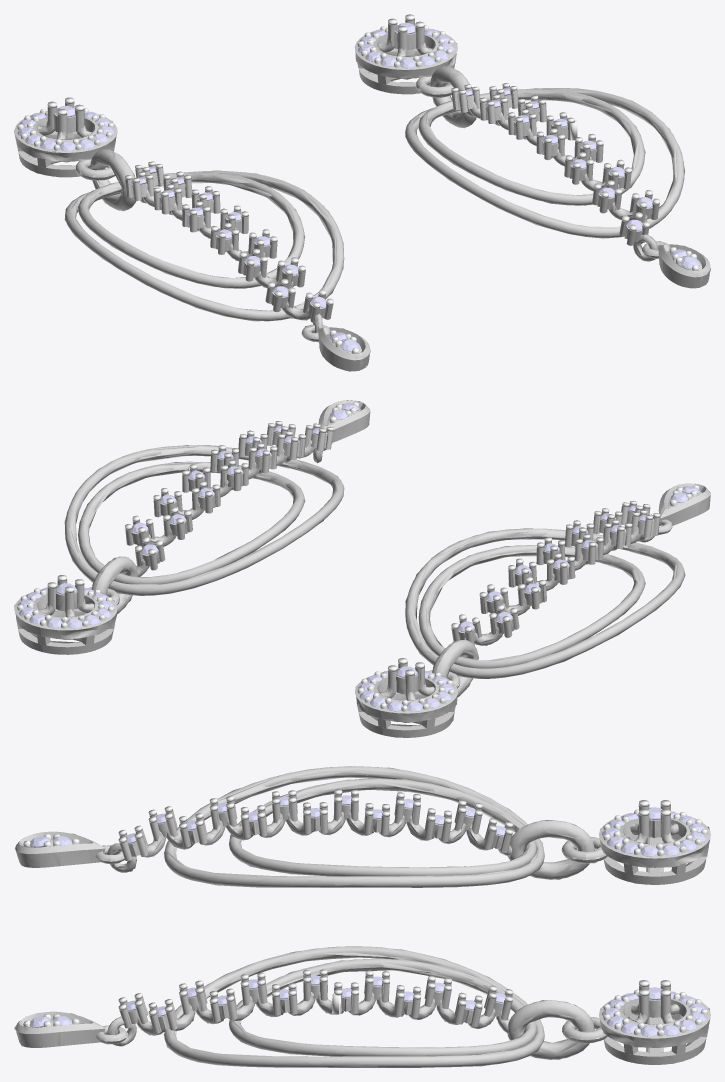
3 views of the same model, one above another, from view 1: azimuth 30°, elevation 25°; view 2: azimuth 150°, elevation 25°; view 3: azimuth 270°, elevation 25° (orthographic). The views are drawn at different scales.
Parts seen in each view (by area): view 1: highPolyMesh, lowPolyMesh; view 2: highPolyMesh, lowPolyMesh; view 3: highPolyMesh, lowPolyMesh.
Part boxes in pixels (x1,y1,x2,y2): highPolyMesh: (14, 14, 710, 371); lowPolyMesh: (14, 18, 710, 371); highPolyMesh: (14, 400, 710, 737); lowPolyMesh: (14, 400, 710, 737); highPolyMesh: (16, 766, 710, 1067); lowPolyMesh: (14, 766, 709, 1067).
Size of the model in its own units: 0.0493 by 0.00614 by 0.0491.
